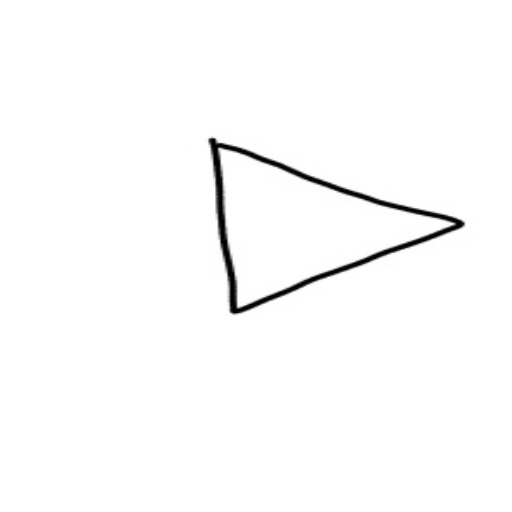triangle: (204, 129, 469, 325)
